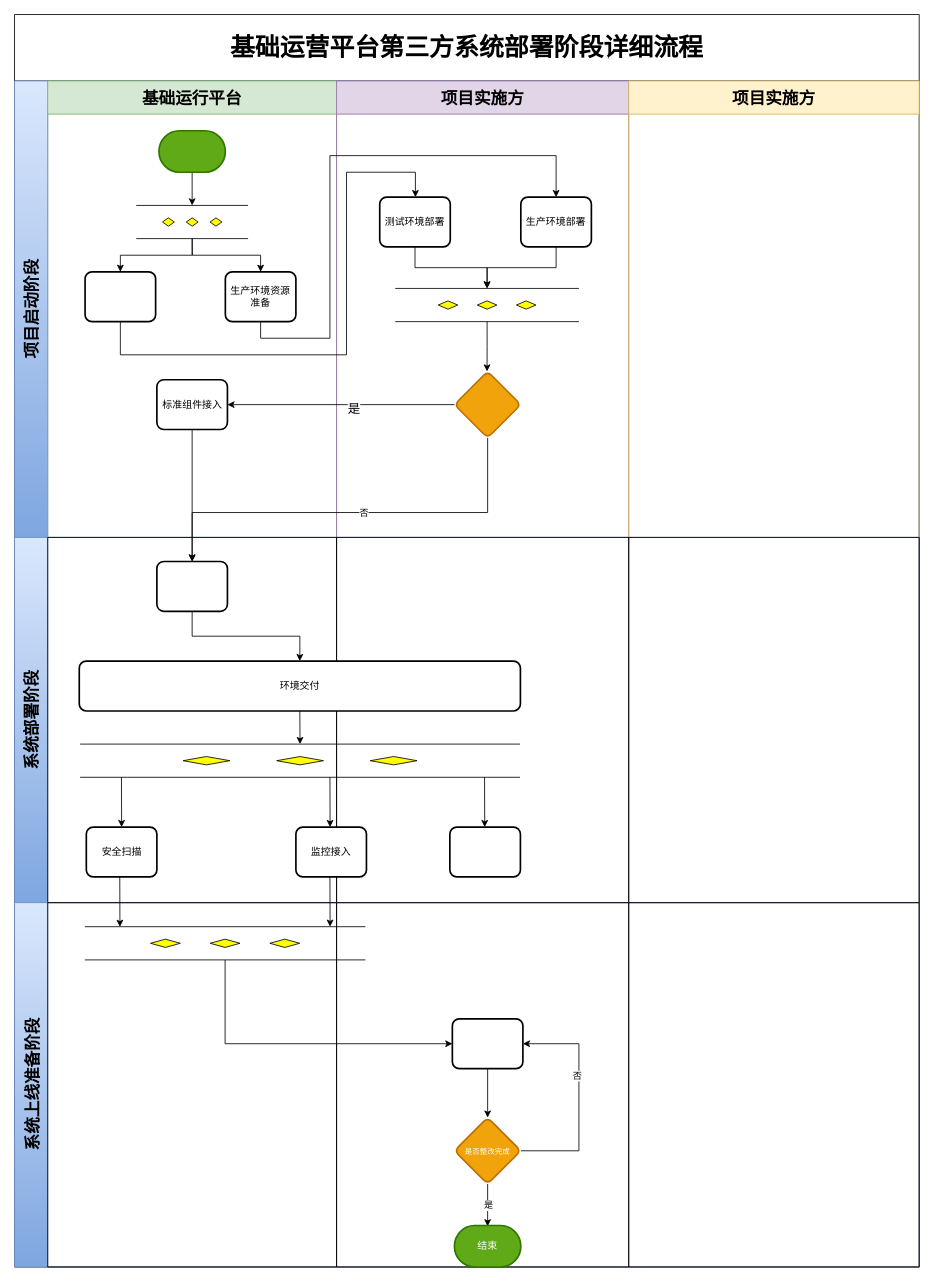
This 934x1282 diagram has some shape labels left out. Here are the shapes that lost their labels. From the top down, the centre of each, then its label:
the point at 192,151: 开始
the point at 120,296: 测试环境资源准备
the point at 487,404: 是否需要接入标准组件
the point at 192,586: 网络配置
the point at 485,851: 功能适配
the point at 487,1043: 问题整改
